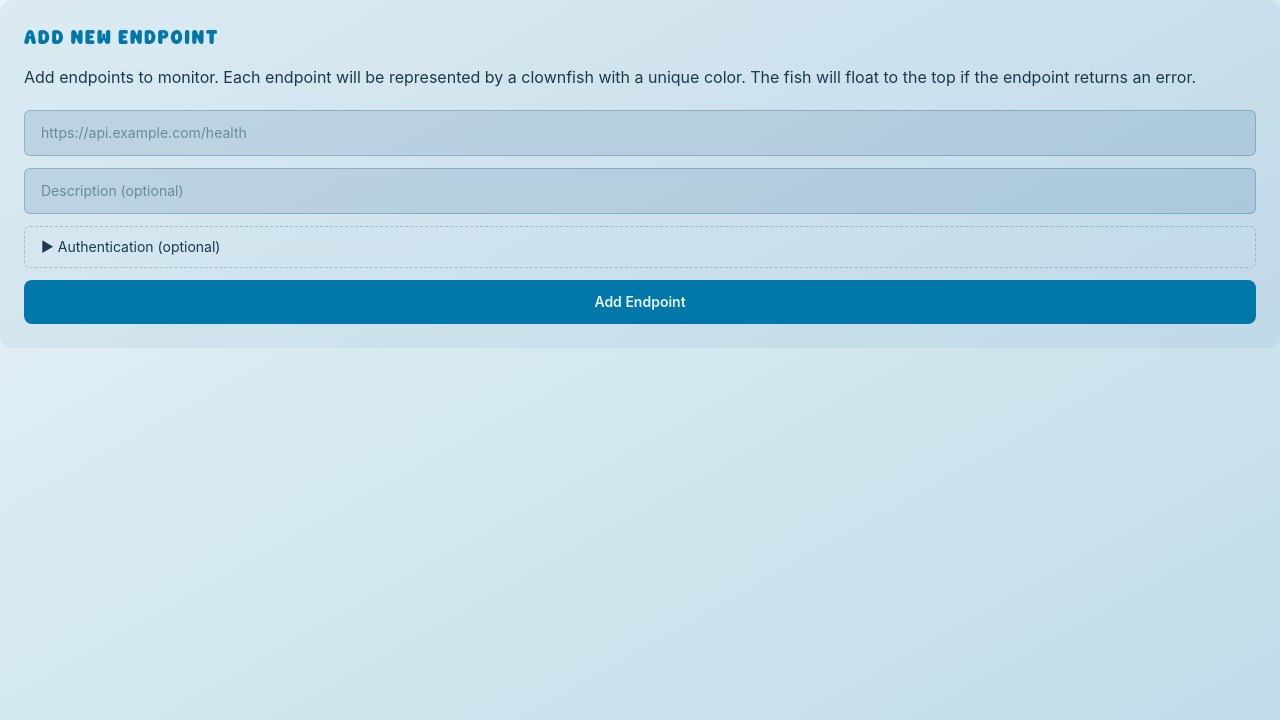
Test: AddEndpointForm › shows API key fields when API Key is selected
Click the button "▶ Authentication (optional)": {"x": 137, "y": 246} [24,226,1256,268]
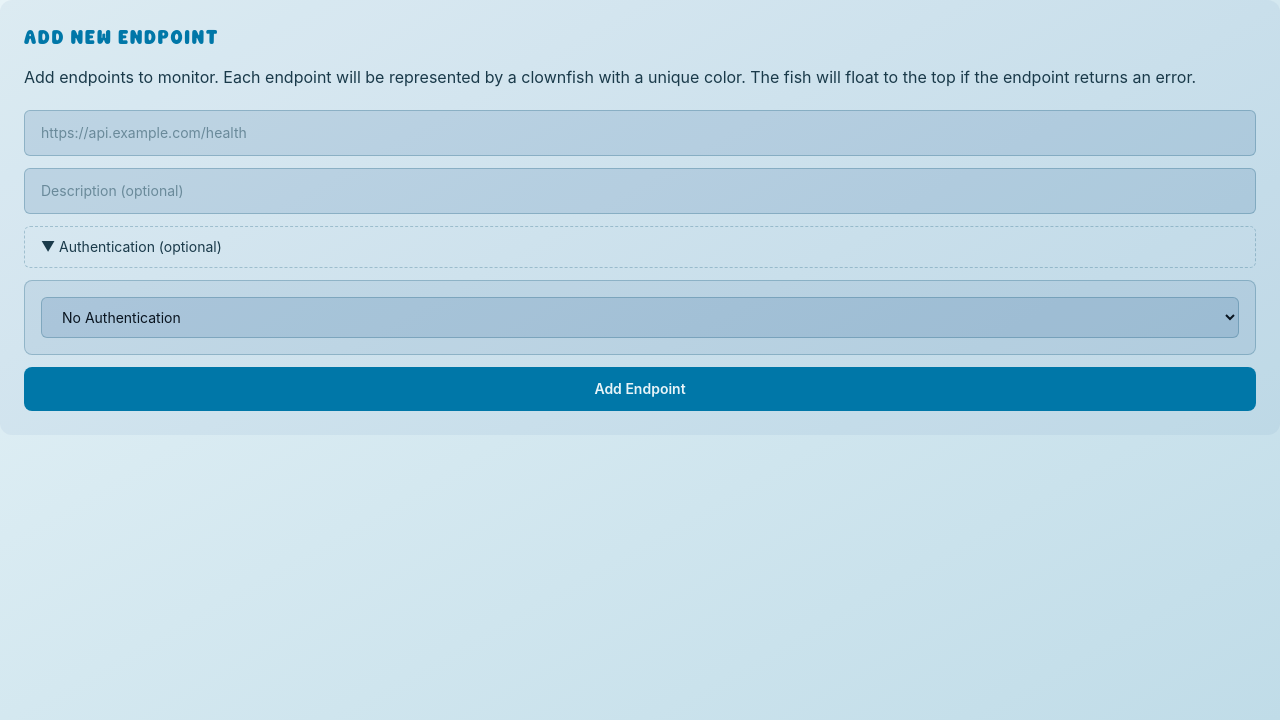
Select "API Key" in the dropdown: {"x": 640, "y": 318} [41,297,1239,338]
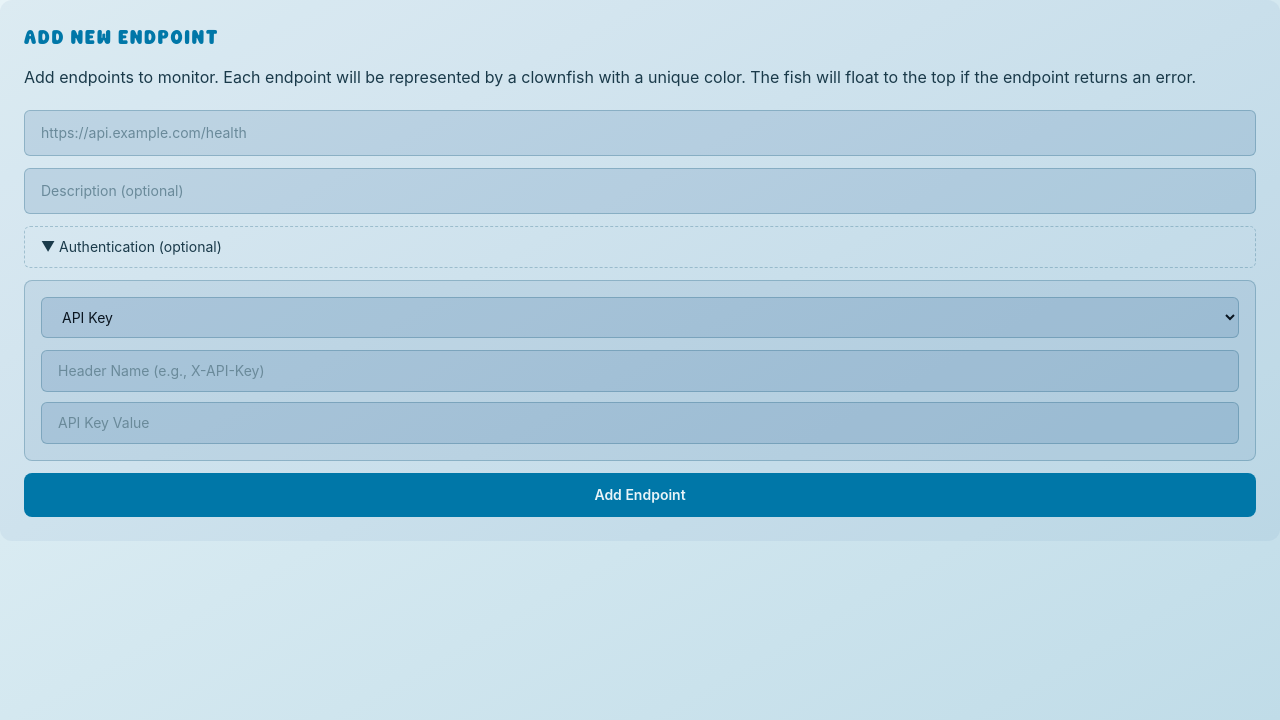
Expected: the field with placeholder "Header Name (e.g., X-API-Key)" is shown, [41,350,1239,392]
Expected: the password field with placeholder "API Key Value" is shown, [41,402,1239,444]
